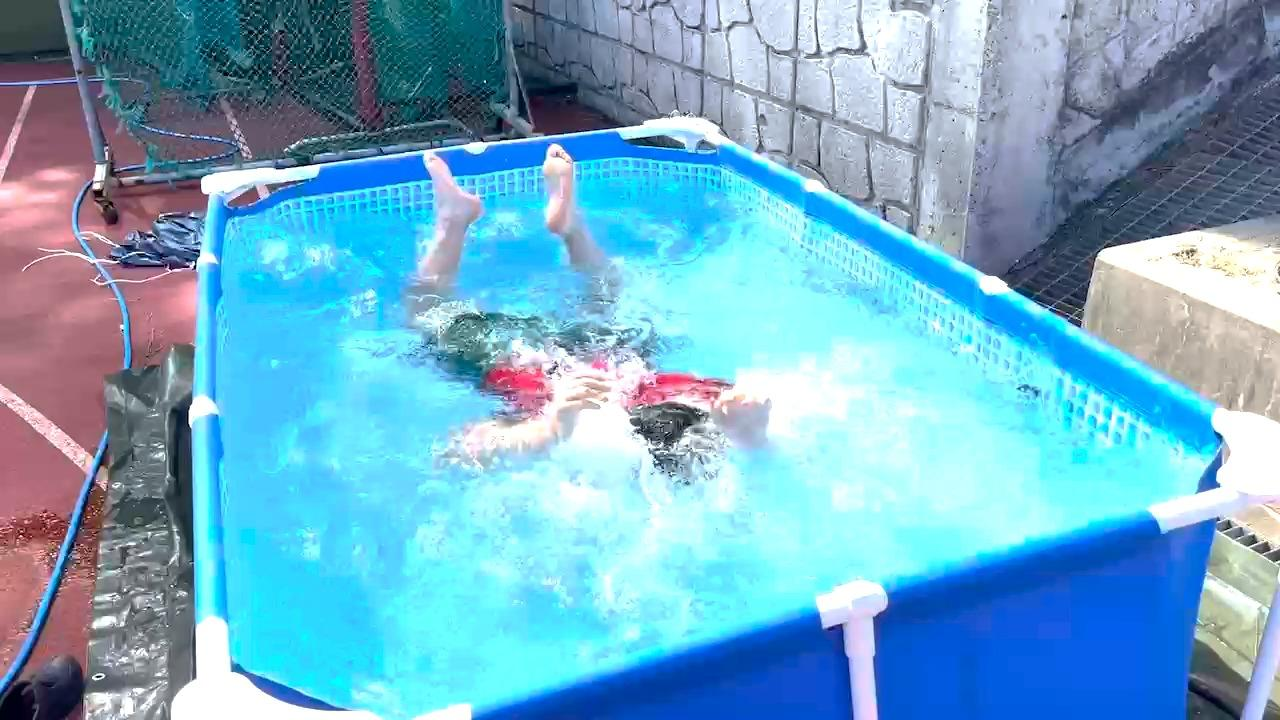Drowning: (415, 186, 755, 485)
